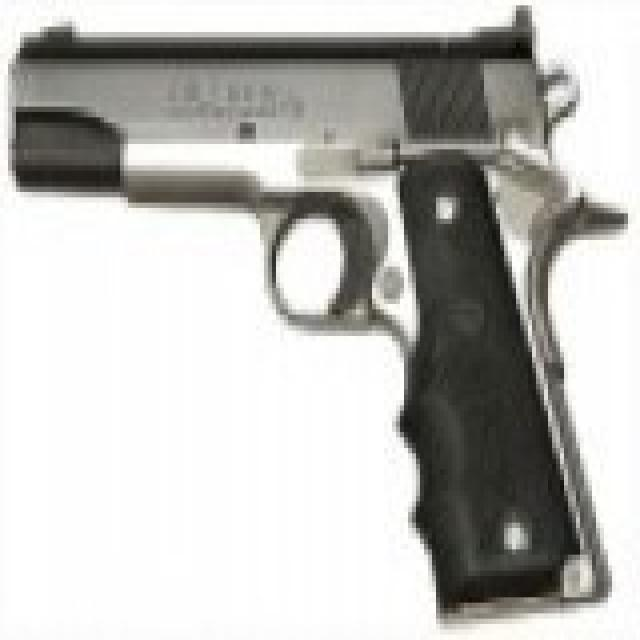Gun: (11, 17, 608, 606)
